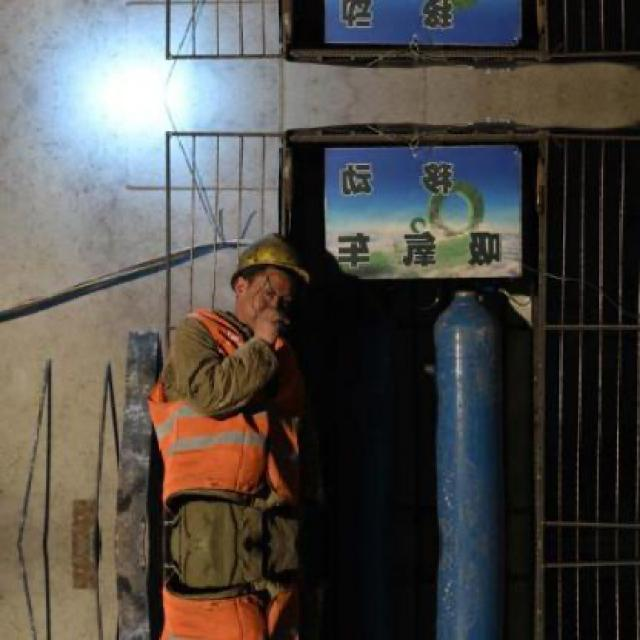helmet: (223, 224, 314, 339)
